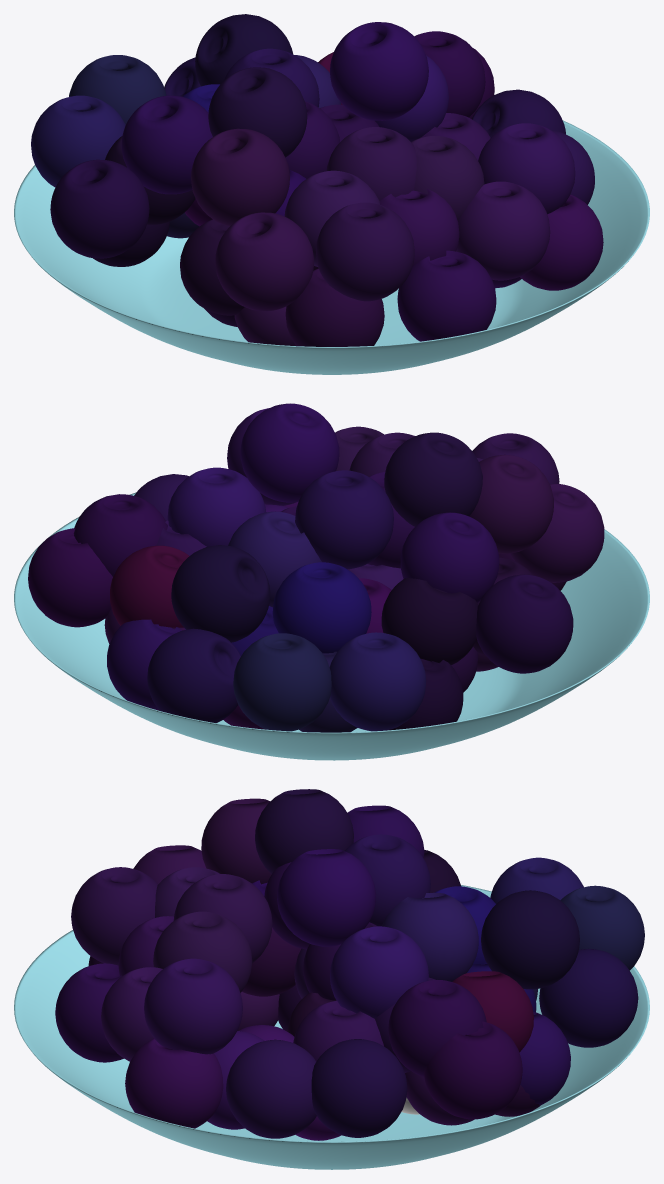
The model's file is Arandanos2.fbx.
3 views of the same model, one above another, from view 1: azimuth 30°, elevation 25°; view 2: azimuth 150°, elevation 25°; view 3: azimuth 270°, elevation 25° (orthographic).
Visible parts, largest first — view 1: Sphere, Sphere.060, Sphere.026, Sphere.027, Sphere.015, Sphere.025, Sphere.024, Sphere.023, Sphere.062, Sphere.028, Sphere.022, Sphere.057 (+23 smaller); view 2: Sphere, Sphere.060, Sphere.058, Sphere.057, Sphere.018, Sphere.046, Sphere.026, Sphere.028, Sphere.052, Sphere.017, Sphere.062, Sphere.040 (+22 smaller); view 3: Sphere, Sphere.048, Sphere.026, Sphere.046, Sphere.022, Sphere.049, Sphere.040, Sphere.052, Sphere.069, Sphere.038, Sphere.039, Sphere.015 (+30 smaller).
Boxes of the visible parts, x1=… form: Sphere: x1=14, y1=120, x2=649, y2=374; Sphere.060: x1=50, y1=159, x2=149, y2=258; Sphere.026: x1=330, y1=22, x2=428, y2=120; Sphere.027: x1=215, y1=212, x2=314, y2=311; Sphere.015: x1=316, y1=202, x2=414, y2=301; Sphere.025: x1=191, y1=128, x2=289, y2=226; Sphere.024: x1=397, y1=250, x2=496, y2=341; Sphere.023: x1=456, y1=181, x2=550, y2=280; Sphere.062: x1=121, y1=95, x2=212, y2=194; Sphere.028: x1=208, y1=67, x2=307, y2=157; Sphere.022: x1=478, y1=123, x2=575, y2=214; Sphere.057: x1=31, y1=95, x2=125, y2=187; Sphere: x1=14, y1=492, x2=649, y2=760; Sphere.060: x1=476, y1=574, x2=573, y2=673; Sphere.058: x1=233, y1=633, x2=331, y2=731; Sphere.057: x1=329, y1=632, x2=426, y2=731; Sphere.018: x1=295, y1=470, x2=393, y2=569; Sphere.046: x1=171, y1=545, x2=270, y2=642; Sphere.026: x1=240, y1=403, x2=339, y2=502; Sphere.028: x1=384, y1=432, x2=482, y2=526; Sphere.052: x1=147, y1=628, x2=240, y2=722; Sphere.017: x1=272, y1=562, x2=371, y2=653; Sphere.062: x1=400, y1=512, x2=499, y2=602; Sphere.040: x1=28, y1=528, x2=112, y2=627; Sphere: x1=14, y1=885, x2=649, y2=1169; Sphere.048: x1=311, y1=1039, x2=407, y2=1137; Sphere.026: x1=277, y1=849, x2=376, y2=946; Sphere.046: x1=481, y1=890, x2=579, y2=989; Sphere.022: x1=144, y1=958, x2=242, y2=1054; Sphere.049: x1=226, y1=1039, x2=316, y2=1138; Sphere.040: x1=424, y1=1021, x2=522, y2=1119; Sphere.052: x1=539, y1=948, x2=638, y2=1047; Sphere.069: x1=125, y1=1038, x2=223, y2=1128; Sphere.038: x1=330, y1=926, x2=428, y2=1018; Sphere.039: x1=388, y1=980, x2=486, y2=1076; Sphere.015: x1=71, y1=867, x2=157, y2=965.
Bounding box in the file's own units: 107 × 49.5 × 107.
